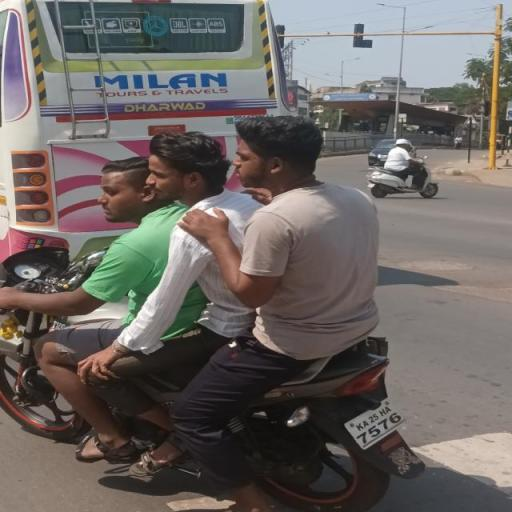tripple riding: (2, 110, 409, 352)
